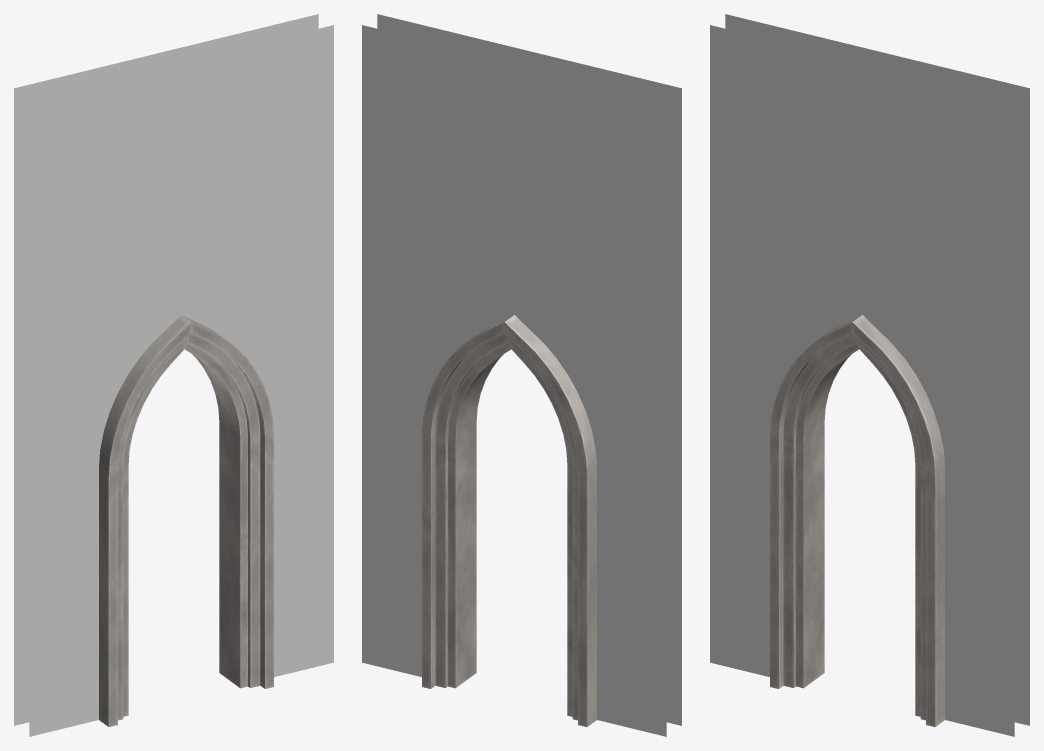
File: Wall_Door_E.fbx
The picture shows the model from 3 angles, left to right: view 1: azimuth 30°, elevation 25°; view 2: azimuth 150°, elevation 25°; view 3: azimuth 330°, elevation 25°; orthographic projection.
Parts seen in each view (by area): view 1: Wall_Door_E; view 2: Wall_Door_E; view 3: Wall_Door_E.
Boxes of the visible parts, x1,y1,x2,y2 form: Wall_Door_E: [14, 14, 333, 736]; Wall_Door_E: [362, 14, 681, 736]; Wall_Door_E: [710, 14, 1029, 736].
Bounding box in the file's own units: 3 × 0.5967 × 6.
